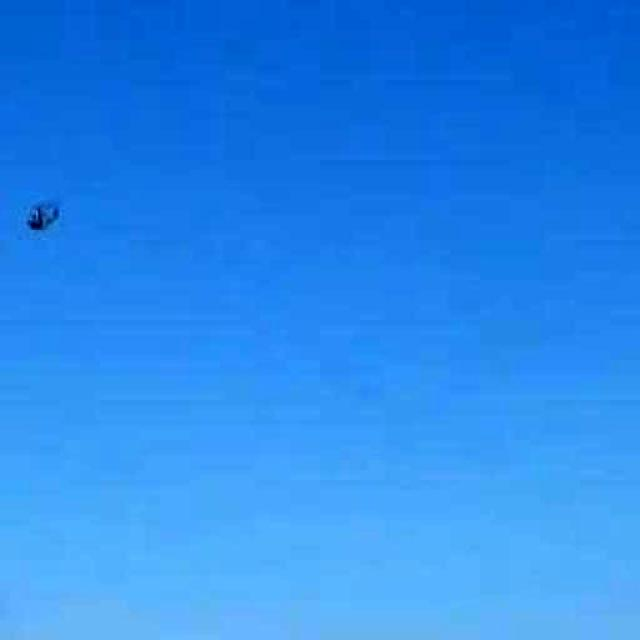drone: (0, 176, 82, 254)
